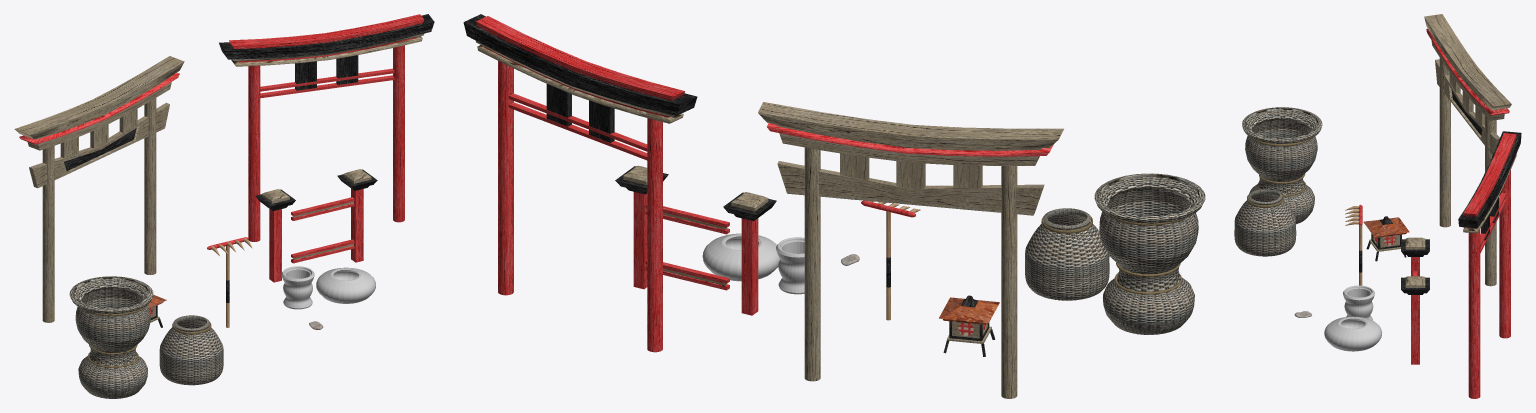
File: Japanese Garden (mod).fbx
3 renders of one model, left to right at view 1: azimuth 30°, elevation 25°; view 2: azimuth 150°, elevation 25°; view 3: azimuth 270°, elevation 25°, orthographic. The views are drawn at different scales.
Visible parts, largest first — view 1: Cube, Cube.001, Circle.003, Circle, Cube.002, Circle.002, Cube.003, Circle.001, Cylinder; view 2: Cube, Cube.001, Circle.003, Circle, Cube.002, Cube.003, Circle.002, Circle.001, Plane.005, Cylinder, Plane.004; view 3: Cube, Cube.001, Circle.003, Circle, Circle.002, Cube.002, Circle.001, Cube.003, Plane.005, Cylinder, Plane.004.
Part boxes in pixels (x1=…): Cube: x1=14, y1=56, x2=184, y2=322; Cube.001: x1=219, y1=14, x2=434, y2=241; Circle.003: x1=69, y1=276, x2=153, y2=398; Circle: x1=159, y1=315, x2=223, y2=385; Cube.002: x1=291, y1=169, x2=377, y2=263; Circle.002: x1=316, y1=267, x2=375, y2=303; Cube.003: x1=255, y1=189, x2=295, y2=282; Circle.001: x1=281, y1=266, x2=314, y2=309; Cylinder: x1=207, y1=237, x2=252, y2=327; Cube: x1=758, y1=102, x2=1063, y2=398; Cube.001: x1=463, y1=14, x2=697, y2=352; Circle.003: x1=1094, y1=173, x2=1205, y2=334; Circle: x1=1025, y1=208, x2=1109, y2=300; Cube.002: x1=615, y1=165, x2=729, y2=290; Cube.003: x1=723, y1=192, x2=776, y2=315; Circle.002: x1=702, y1=233, x2=779, y2=281; Circle.001: x1=776, y1=237, x2=804, y2=294; Plane.005: x1=939, y1=295, x2=999, y2=324; Cylinder: x1=861, y1=200, x2=920, y2=320; Plane.004: x1=943, y1=321, x2=994, y2=356; Cube: x1=1424, y1=14, x2=1511, y2=286; Cube.001: x1=1458, y1=131, x2=1521, y2=398; Circle.003: x1=1242, y1=107, x2=1322, y2=224; Circle: x1=1234, y1=189, x2=1296, y2=256; Circle.002: x1=1324, y1=316, x2=1382, y2=351; Cube.002: x1=1401, y1=271, x2=1429, y2=364; Circle.001: x1=1343, y1=285, x2=1374, y2=320; Cube.003: x1=1401, y1=237, x2=1429, y2=276; Plane.005: x1=1363, y1=216, x2=1409, y2=237; Cylinder: x1=1345, y1=204, x2=1362, y2=285; Plane.004: x1=1366, y1=233, x2=1406, y2=261.
Size of the model in its own units: 1724 by 757 by 978.
